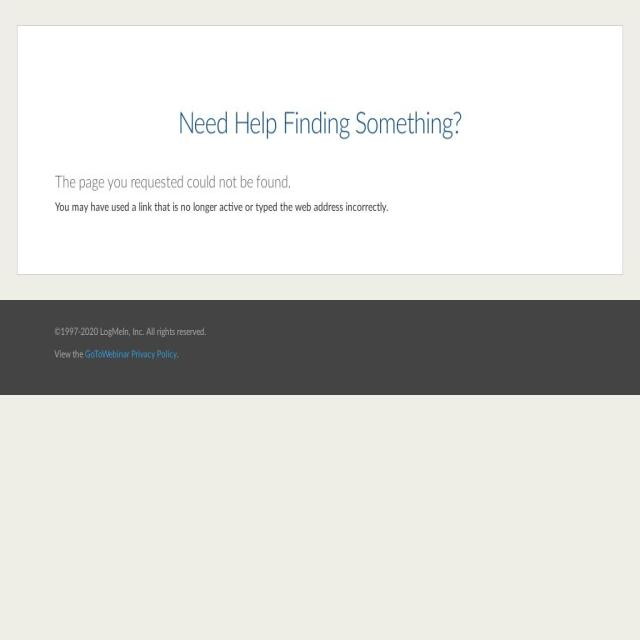heading: (55, 109, 585, 139), (55, 172, 585, 192)
link: (85, 349, 177, 359)
text: (55, 199, 585, 216), (54, 325, 586, 339), (54, 349, 85, 359), (177, 349, 179, 359)
